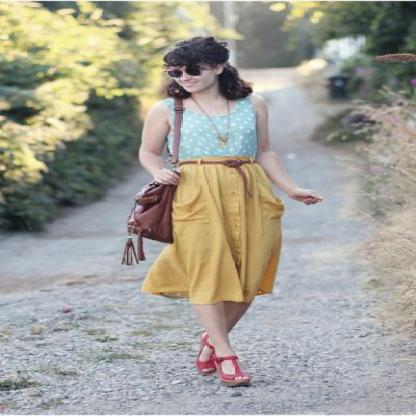bag: (115, 98, 188, 265)
shirt: (168, 102, 255, 158)
shoe: (196, 345, 257, 388)
skirt: (144, 156, 286, 304)
